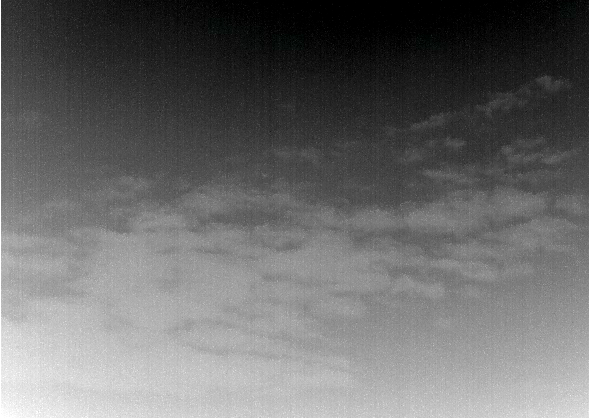dim target: (262, 173, 268, 178)
